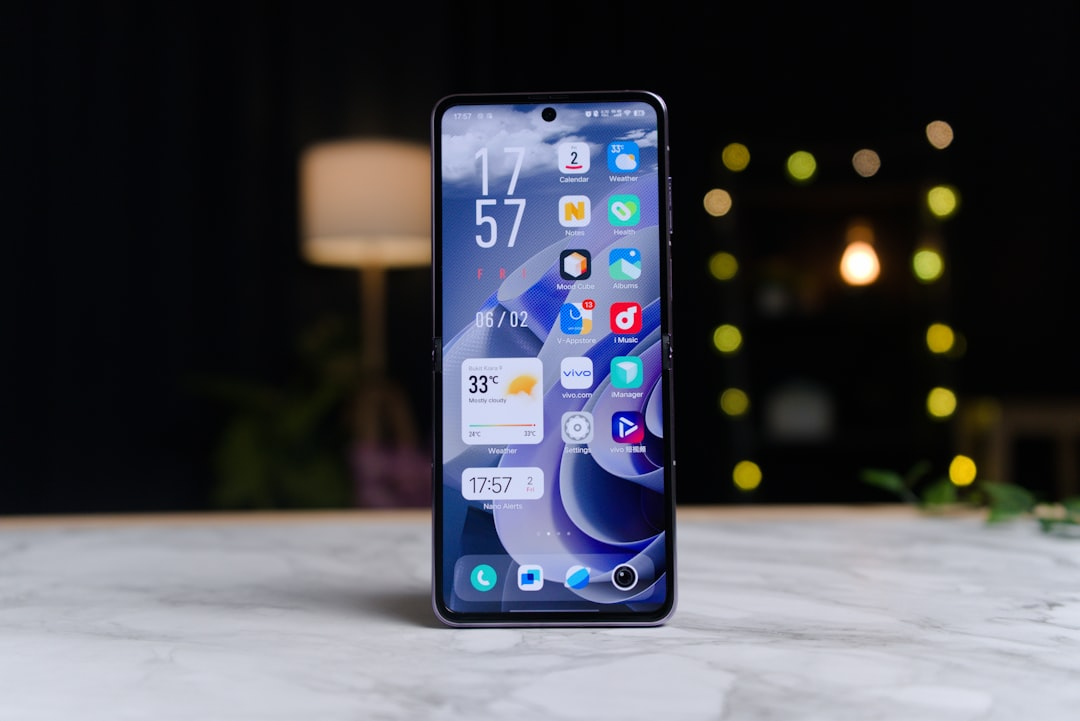phone: (428, 92, 674, 630)
